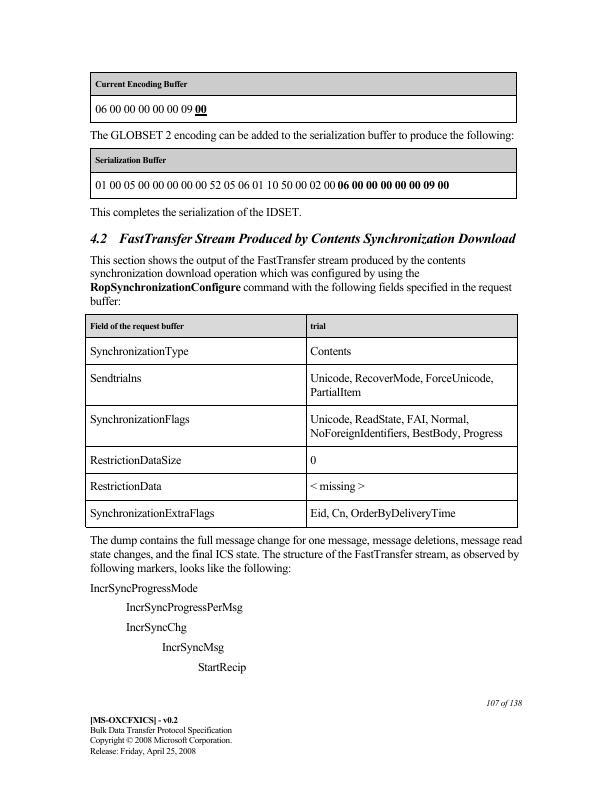table: (83, 310, 520, 531), (88, 144, 521, 204), (87, 69, 520, 126)
text: (88, 253, 515, 307), (88, 534, 526, 575), (86, 582, 254, 679), (87, 714, 236, 758), (89, 232, 517, 247), (87, 128, 516, 142), (87, 203, 304, 220), (484, 694, 525, 709)
